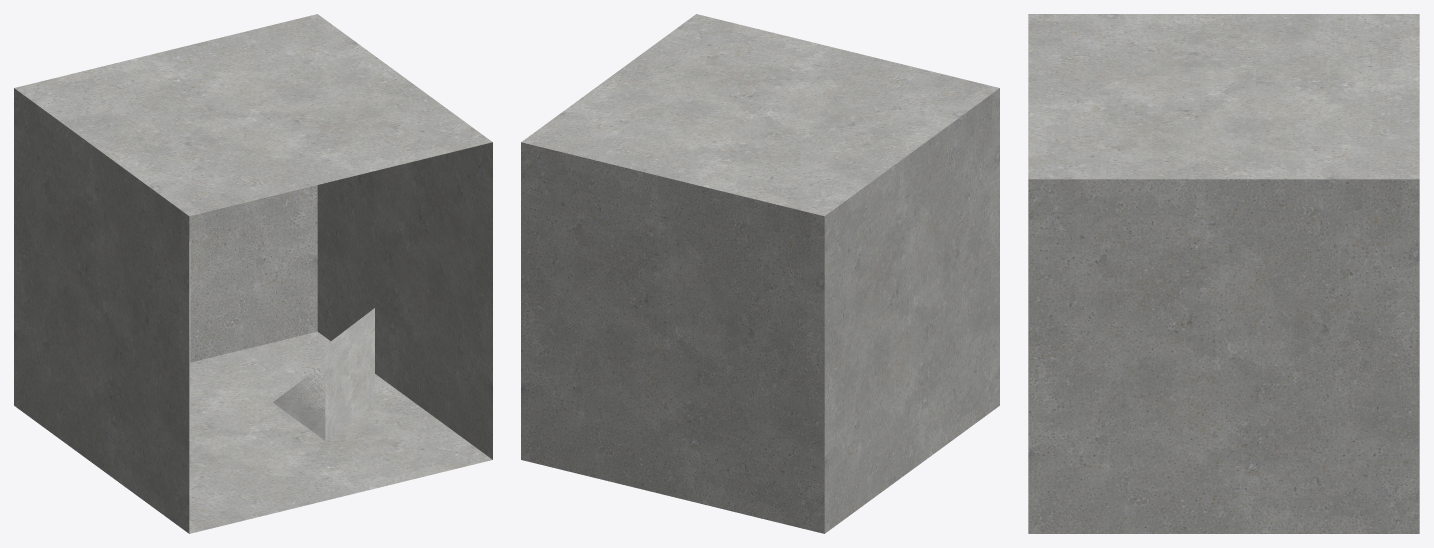
Rendered from cornell_box.obj.
3 views of the same model, side by side, from view 1: azimuth 30°, elevation 25°; view 2: azimuth 150°, elevation 25°; view 3: azimuth 270°, elevation 25° (orthographic). The views are drawn at different scales.
Bounding box in the file's own units: 2 × 2 × 2.
Materials: 1 (1 with a texture image).
